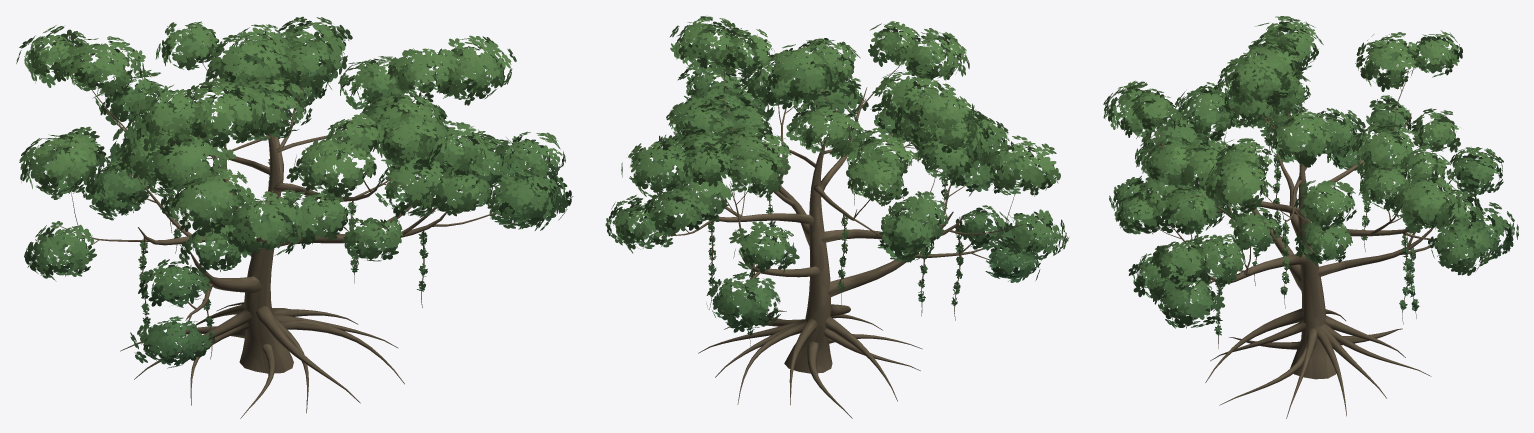
Rendered from tree.gltf.
3 views of the same model, side by side, from view 1: azimuth 30°, elevation 25°; view 2: azimuth 150°, elevation 25°; view 3: azimuth 270°, elevation 25° (orthographic). The views are drawn at different scales.
Visible parts, largest first — view 1: Tree_LOD0; view 2: Tree_LOD0; view 3: Tree_LOD0.
Boxes of the visible parts, box(x1,y1,x2,y2) form: Tree_LOD0: box(16, 16, 573, 418); Tree_LOD0: box(605, 16, 1069, 418); Tree_LOD0: box(1103, 16, 1518, 418).
Bounding box in the file's own units: 22.21 × 14.07 × 18.67.
2 materials, 2 textured.
